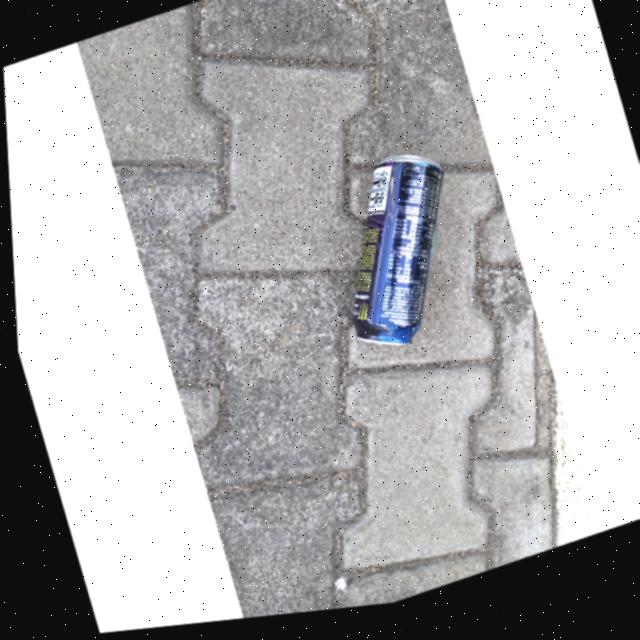Monster LH44: (296, 140, 485, 380)
